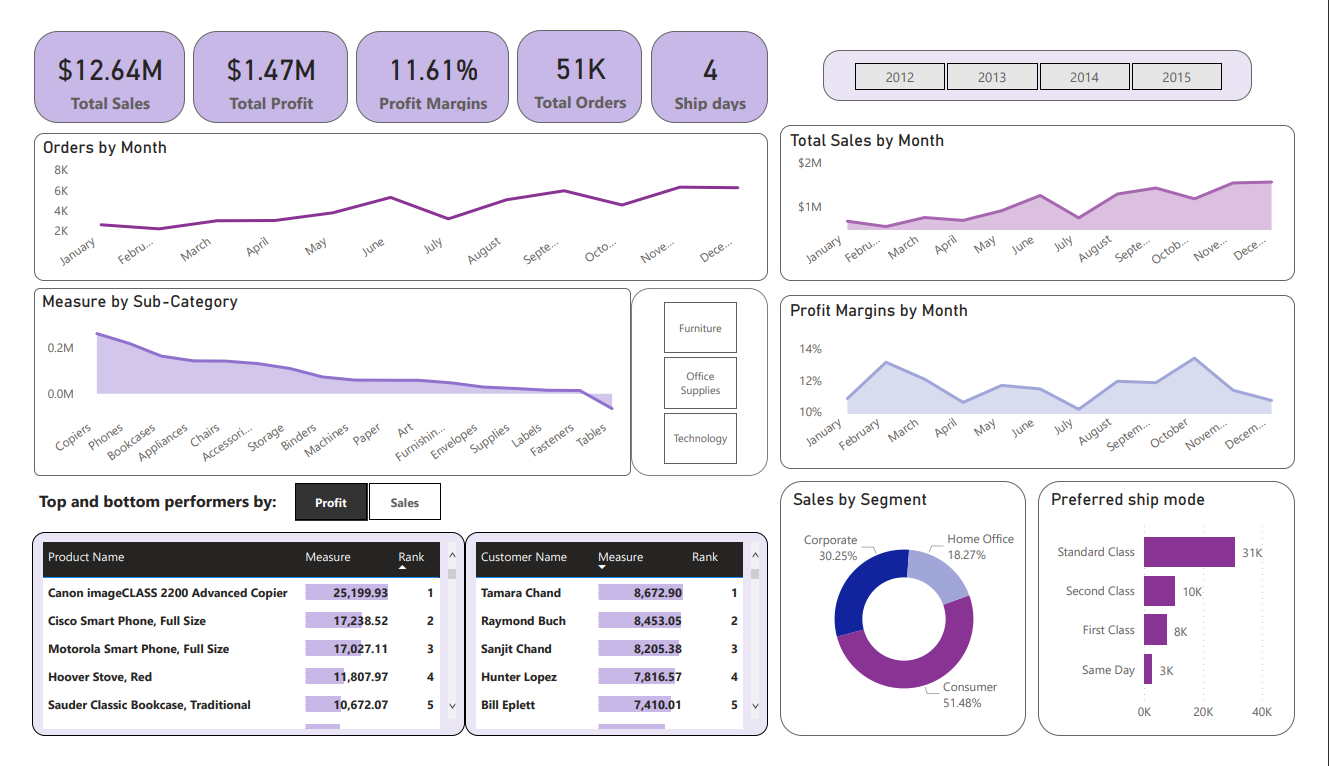

Layout of this report page (visuals, bound fields, positions):
{"tool":"powerbi","page":{"name":"Page 5","canvas":[1280,720],"ordinal":0},"visuals":[{"type":"card","fields":{"Values":["Customer.Total Profit"]},"box":[169,7.8,155,92.6],"z":0},{"type":"card","fields":{"Values":["Customer.Total Sales"]},"box":[9.7,7.8,151.1,92.6],"z":1000},{"type":"card","fields":{"Values":["Fact-store.Profit Margins"]},"box":[332.4,7.8,153.1,92.6],"z":2000},{"type":"card","fields":{"Values":["Fact-store.Total Orders"]},"box":[493,7,124.8,92.6],"z":3000},{"type":"tableEx","fields":{"Values":["Product.Product Name","Fact-store.Measure","Customer.Row Number"]},"box":[7.8,508.9,432.8,203.7],"z":4000},{"type":"slicer","fields":{"Values":["LocalDateTable_a1f2228c-2ece-4ee5-bad7-07165fbfc663.Year"]},"box":[799,27,429,51],"z":5000},{"type":"slicer","fields":{"Values":["MeasureTable.Name"]},"box":[245,453,196,51],"z":6000},{"type":"areaChart","fields":{"Category":["Product.Sub-Category"],"Y":["Fact-store.Measure"]},"box":[9.7,265.2,597.6,188.1],"z":7000},{"type":"textbox","box":[9.6,458.7,301.7,40.3],"z":8000},{"type":"clusteredBarChart","title":"Preferred ship mode","fields":{"Category":["Ship mode.Ship Mode"],"Y":["Fact-store.Order ID"]},"box":[1013.9,458.2,257.4,254.4],"z":9000},{"type":"tableEx","fields":{"Values":["Customer.Customer Name","Fact-store.Measure","Customer.Row.no customer"]},"box":[440.6,508.9,303.2,203.7],"z":10000},{"type":"stackedAreaChart","fields":{"Category":["Order.Order Date.Variation.Date Hierarchy.Year","Order.Order Date.Variation.Date Hierarchy.Quarter","Order.Order Date.Variation.Date Hierarchy.Month","Order.Order Date.Variation.Date Hierarchy.Day"],"Y":["Customer.Total Sales"]},"box":[755.5,102.4,515.7,156],"z":11000},{"type":"stackedAreaChart","fields":{"Y":["Fact-store.Profit Margins"],"Category":["Order.Order Date.Variation.Date Hierarchy.Year","Order.Order Date.Variation.Date Hierarchy.Quarter","Order.Order Date.Variation.Date Hierarchy.Month","Order.Order Date.Variation.Date Hierarchy.Day"]},"box":[755.5,272,515.7,174.5],"z":12000},{"type":"donutChart","title":"Sales by Segment","fields":{"Category":["Customer.Segment"],"Y":["Fact-store.Sales"]},"box":[755.5,458.2,246.6,254.4],"z":13000},{"type":"slicer","fields":{"Values":["Product.Category"]},"box":[607.3,265.2,136.5,188.1],"z":14000},{"type":"card","fields":{"Values":["Fact-store.Ship days"]},"box":[626.8,7.8,117,92.6],"z":15000},{"type":"lineChart","fields":{"Y":["Fact-store.Order ID"],"Category":["Order.Order Date.Variation.Date Hierarchy.Year","Order.Order Date.Variation.Date Hierarchy.Quarter","Order.Order Date.Variation.Date Hierarchy.Month","Order.Order Date.Variation.Date Hierarchy.Day"]},"box":[9.7,110.2,734.1,148.2],"z":16000}]}

Visuals, with their boxes in screenshot pixels (x1, y1, x2, y2), scaled from the page's 1280x720 canvas onto the 1329x766 screenshot:
card - Customer.Total Profit: pyautogui.locateOnScreen(175, 8, 336, 107)
card - Customer.Total Sales: pyautogui.locateOnScreen(10, 8, 167, 107)
card - Fact-store.Profit Margins: pyautogui.locateOnScreen(345, 8, 504, 107)
card - Fact-store.Total Orders: pyautogui.locateOnScreen(512, 7, 641, 106)
tableEx - Product.Product Name x Fact-store.Measure: pyautogui.locateOnScreen(8, 541, 457, 758)
slicer - LocalDateTable_a1f2228c-2ece-4ee5-bad7-07165fbfc663.Year: pyautogui.locateOnScreen(830, 29, 1275, 83)
slicer - MeasureTable.Name: pyautogui.locateOnScreen(254, 482, 458, 536)
areaChart - Product.Sub-Category x Fact-store.Measure: pyautogui.locateOnScreen(10, 282, 631, 482)
textbox: pyautogui.locateOnScreen(10, 488, 323, 531)
"Preferred ship mode" clusteredBarChart: pyautogui.locateOnScreen(1053, 487, 1320, 758)
tableEx - Customer.Customer Name x Fact-store.Measure: pyautogui.locateOnScreen(457, 541, 772, 758)
stackedAreaChart - Order.Order Date.Variation.Date Hierarchy.Year x Order.Order Date.Variation.Date Hierarchy.Quarter: pyautogui.locateOnScreen(784, 109, 1320, 275)
stackedAreaChart - Fact-store.Profit Margins x Order.Order Date.Variation.Date Hierarchy.Year: pyautogui.locateOnScreen(784, 289, 1320, 475)
"Sales by Segment" donutChart: pyautogui.locateOnScreen(784, 487, 1040, 758)
slicer - Product.Category: pyautogui.locateOnScreen(631, 282, 772, 482)
card - Fact-store.Ship days: pyautogui.locateOnScreen(651, 8, 772, 107)
lineChart - Fact-store.Order ID x Order.Order Date.Variation.Date Hierarchy.Year: pyautogui.locateOnScreen(10, 117, 772, 275)
